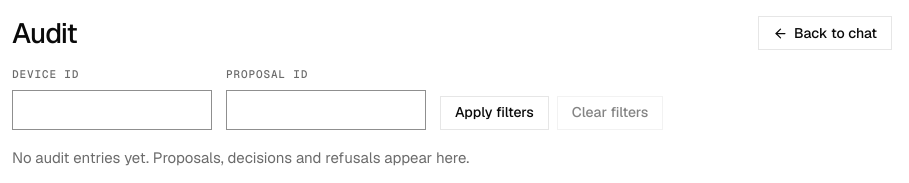
Scenario: the tenant audit view › says what an empty trail means, and what an empty filter result means
The width and height of the screenshot is (909, 183).
Expected: the text "No audit entries yet. Proposals, decisions and refusals appear here." is shown, x1=12 y1=148 x2=469 y2=167
Type "X1" into the field labelled "Device id". click: (112, 110)
box: x1=12 y1=90 x2=212 y2=130
Then press Enter
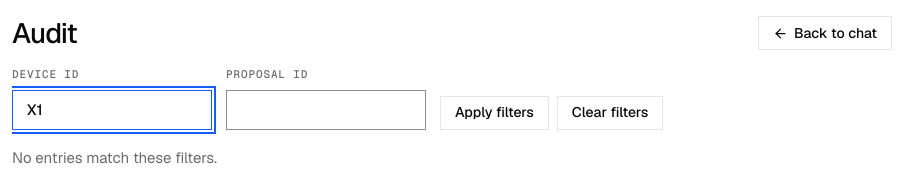
Now the text "No entries match these filters." is shown, box x1=12 y1=148 x2=217 y2=167
